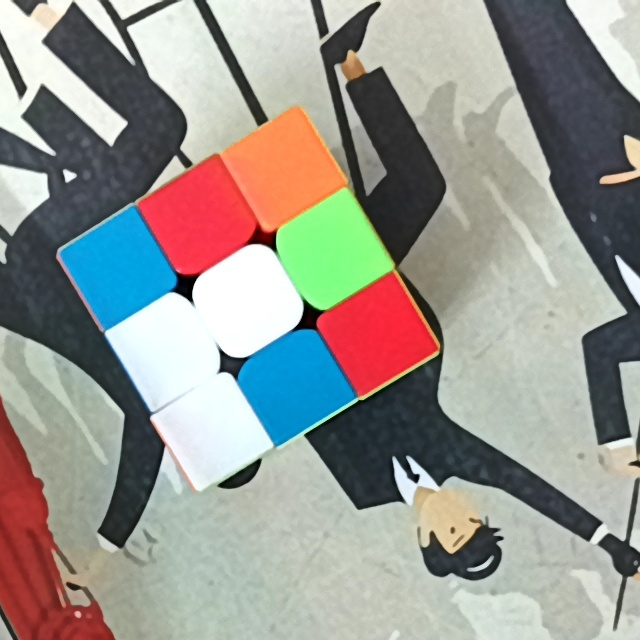tile: (297, 215, 364, 285), (131, 317, 199, 384), (216, 268, 282, 334), (263, 350, 328, 415), (253, 135, 315, 203), (346, 302, 410, 366), (84, 236, 147, 301), (167, 188, 229, 253), (184, 397, 243, 461)
